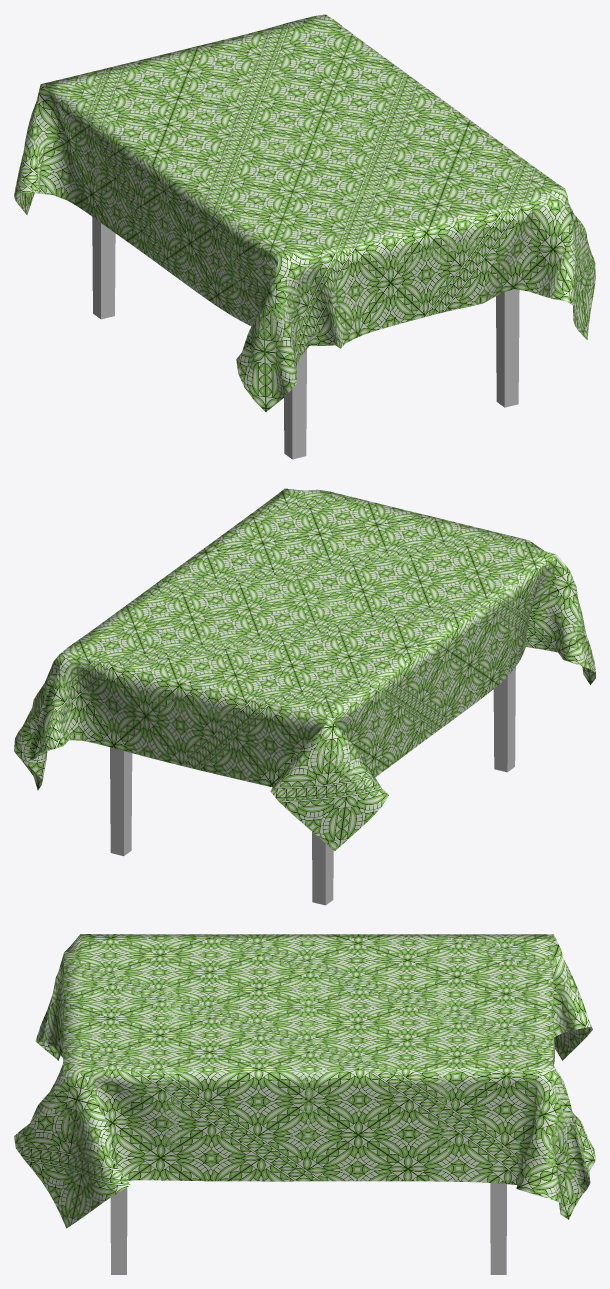
Rendered from Table05.FBX.
The picture shows the model from 3 angles, top to bottom: view 1: azimuth 30°, elevation 25°; view 2: azimuth 150°, elevation 25°; view 3: azimuth 270°, elevation 25°; orthographic projection. The views are drawn at different scales.
Parts seen in each view (by area): view 1: Cloth1, Table05; view 2: Cloth1, Table05; view 3: Cloth1, Table05.
Boxes of the visible parts, left/top/right/bottom form: Cloth1: left=14, top=14, right=595, bottom=411; Table05: left=92, top=217, right=519, bottom=459; Cloth1: left=14, top=488, right=595, bottom=850; Table05: left=110, top=667, right=515, bottom=905; Cloth1: left=14, top=934, right=595, bottom=1228; Table05: left=110, top=1183, right=506, bottom=1274.
Size of the model in its own units: 1896 by 1063 by 2561.
